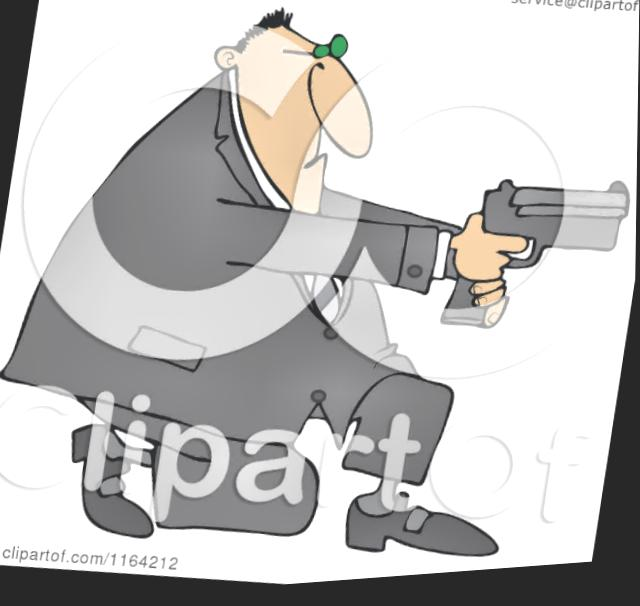pistol: (441, 164, 637, 355)
